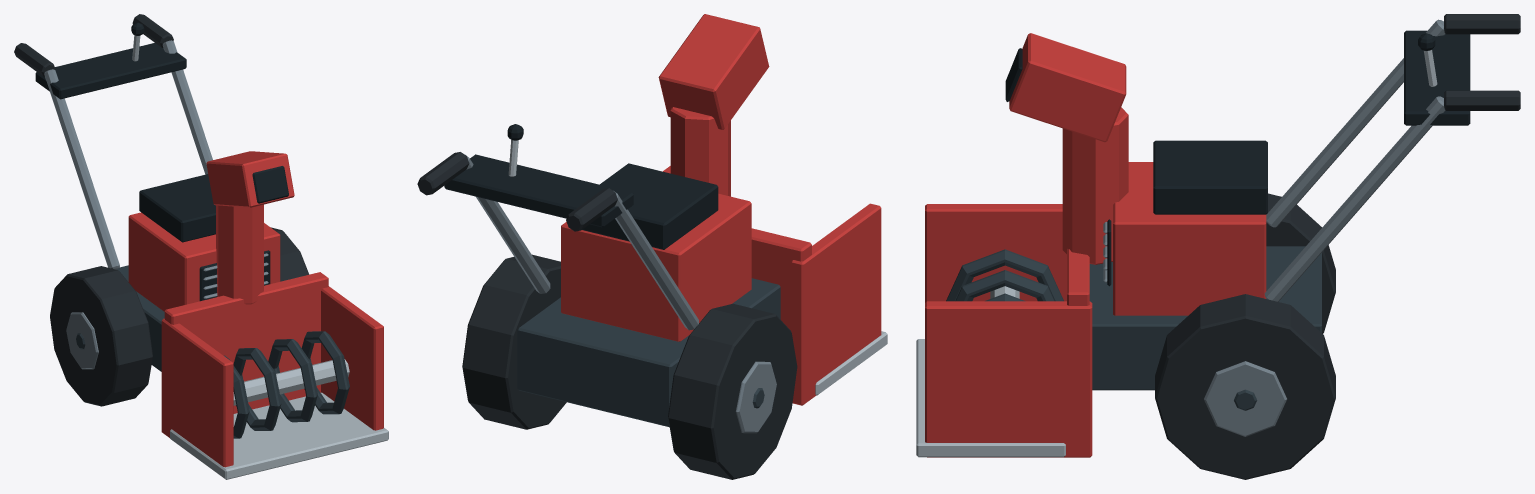
The model's file is b20_two_stage_walkbehind_snowblower.glb.
The picture shows the model from 3 angles, left to right: view 1: azimuth 30°, elevation 25°; view 2: azimuth 150°, elevation 25°; view 3: azimuth 270°, elevation 25°; orthographic projection. The views are drawn at different scales.
Parts seen in each view (by area): view 1: b20_two_stage_walkbehind_snowblower; view 2: b20_two_stage_walkbehind_snowblower; view 3: b20_two_stage_walkbehind_snowblower.
Boxes of the visible parts, x1,y1,x2,y2 form: b20_two_stage_walkbehind_snowblower: (14,14,388,479); b20_two_stage_walkbehind_snowblower: (417,14,887,479); b20_two_stage_walkbehind_snowblower: (916,14,1520,479).
Bounding box in the file's own units: 0.912 × 1.26 × 1.74.
